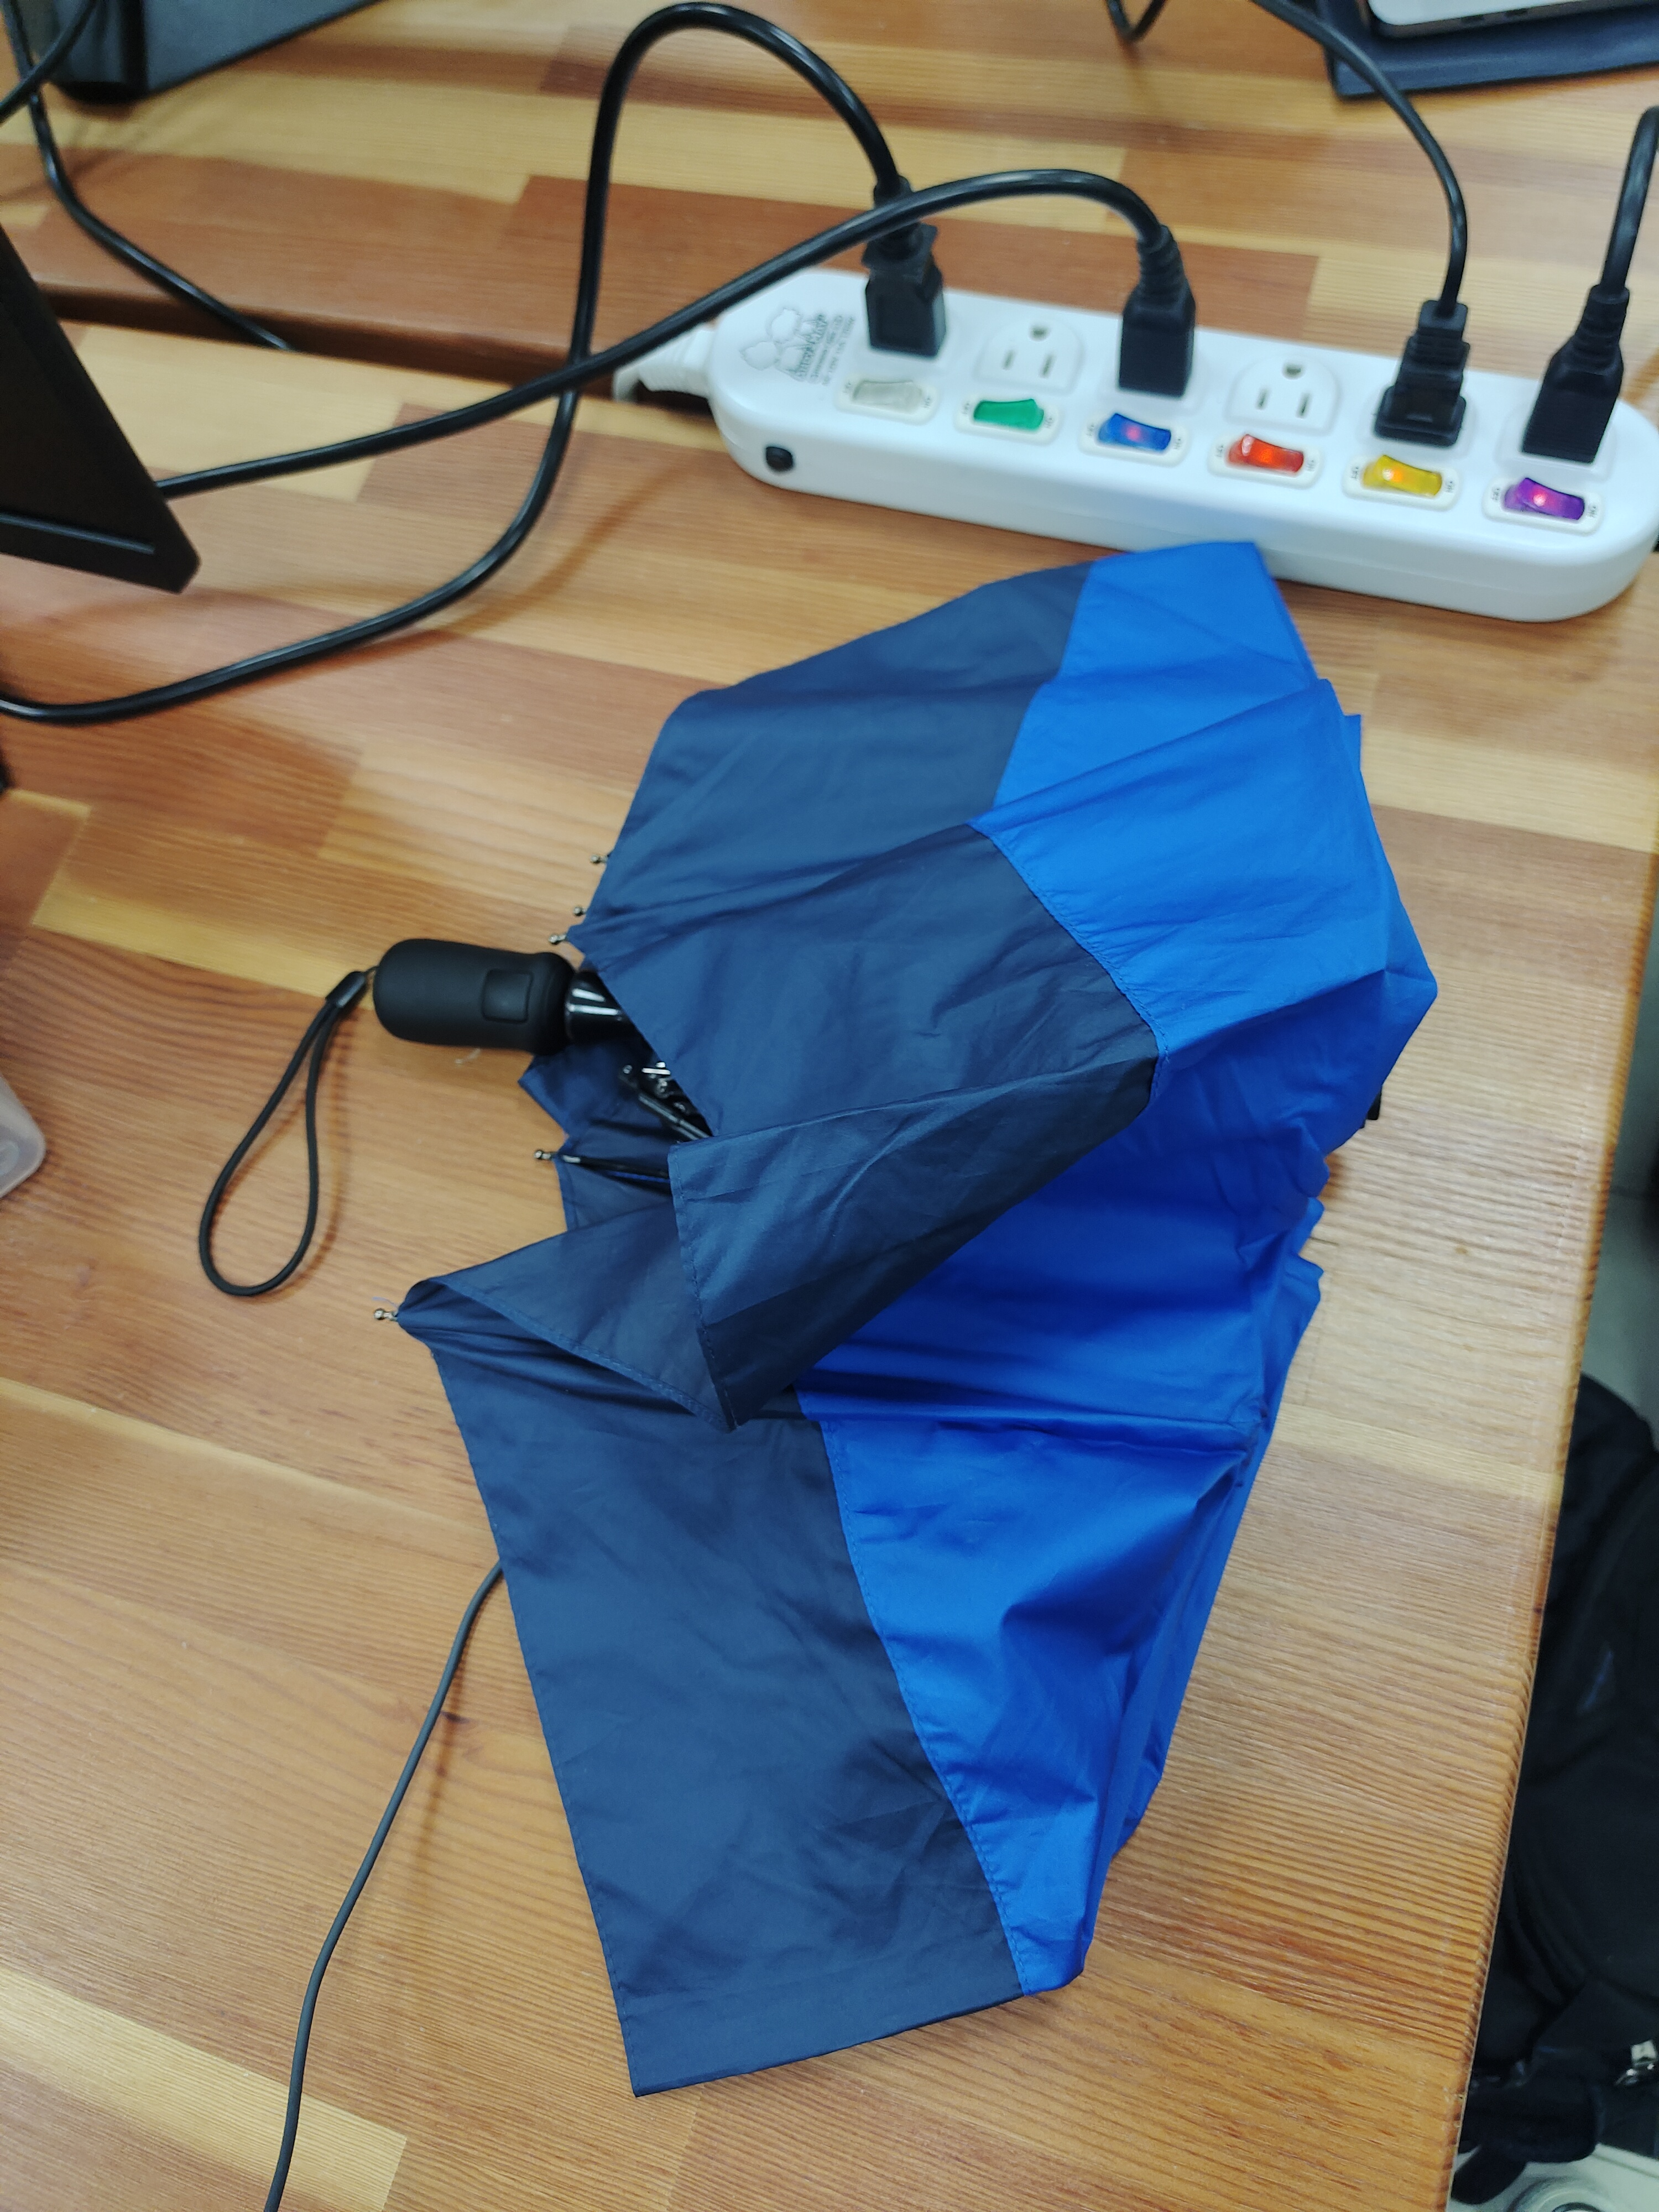umbrella: (310, 556, 1385, 2057)
